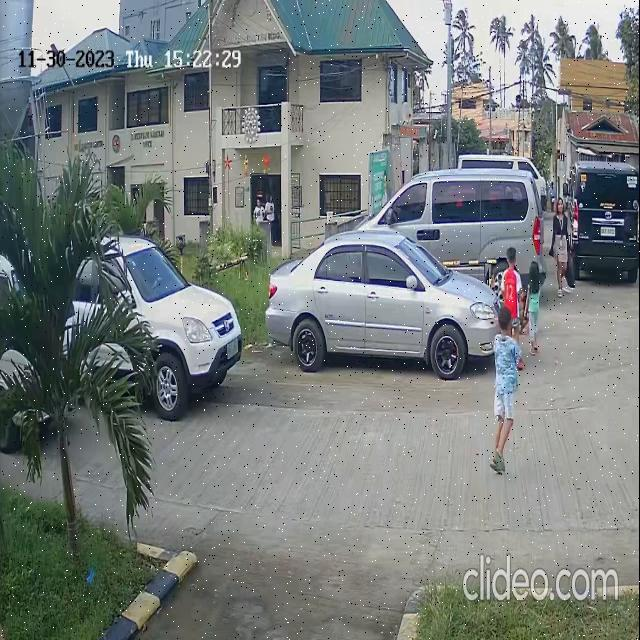human: (492, 310, 519, 473), (551, 192, 570, 301), (503, 244, 521, 330), (528, 263, 542, 350)
trash: (566, 246, 578, 292)
